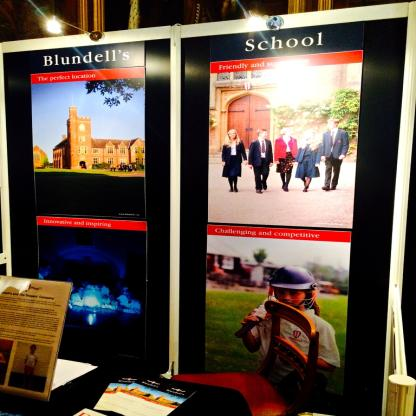Helmet: (276, 270, 323, 313)
